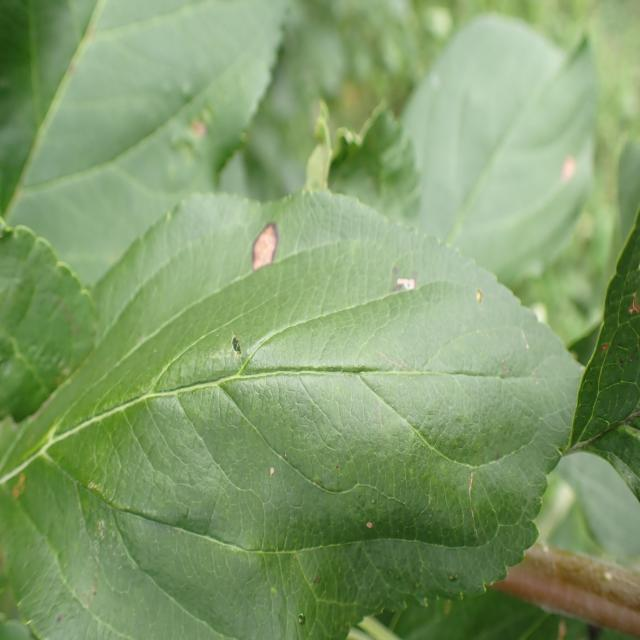Black Rot: (236, 199, 296, 290)
